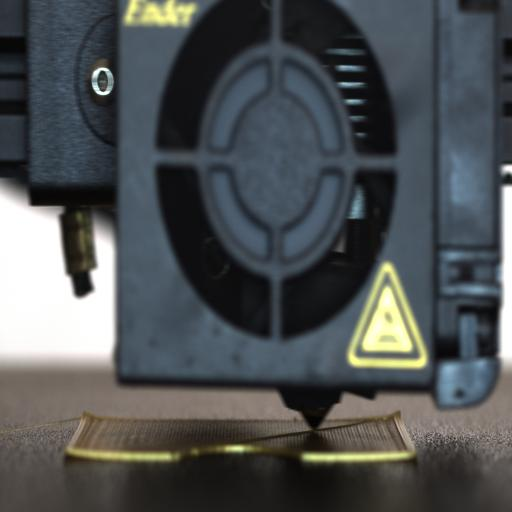warp: (64, 445, 190, 464), (300, 412, 402, 432), (298, 448, 414, 464)
